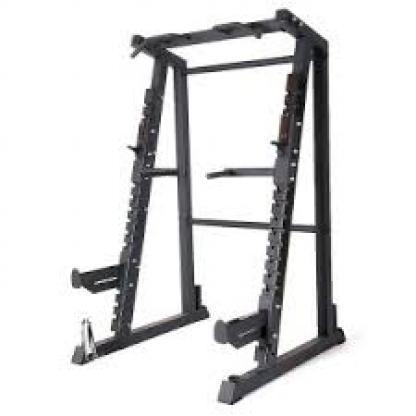smith machine: (72, 8, 348, 406)
